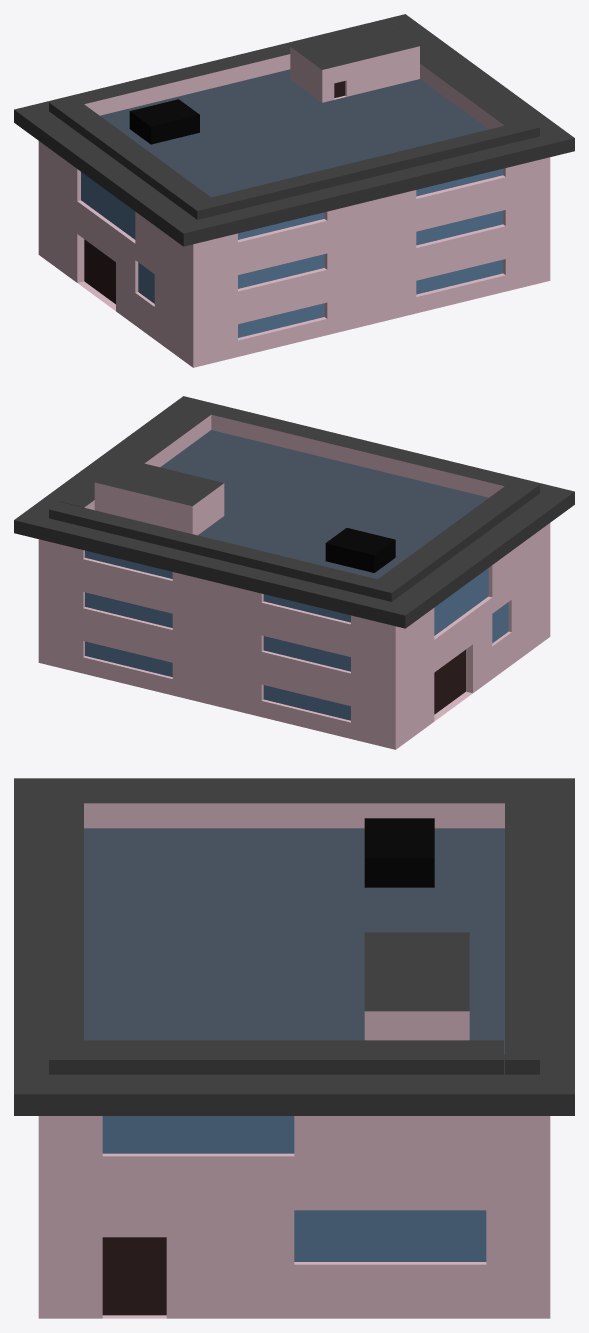
Rendered from SchoolImp02Brick.fbx.
3 views of the same model, one above another, from view 1: azimuth 30°, elevation 25°; view 2: azimuth 150°, elevation 25°; view 3: azimuth 270°, elevation 25° (orthographic). The views are drawn at different scales.
Visible parts, largest first — view 1: Cube; view 2: Cube; view 3: Cube.
Part boxes in pixels (x1,y1,x2,y2): Cube: (14, 14, 574, 367); Cube: (14, 396, 574, 749); Cube: (14, 778, 574, 1318).
Bounding box in the file's own units: 438 × 182 × 329.
